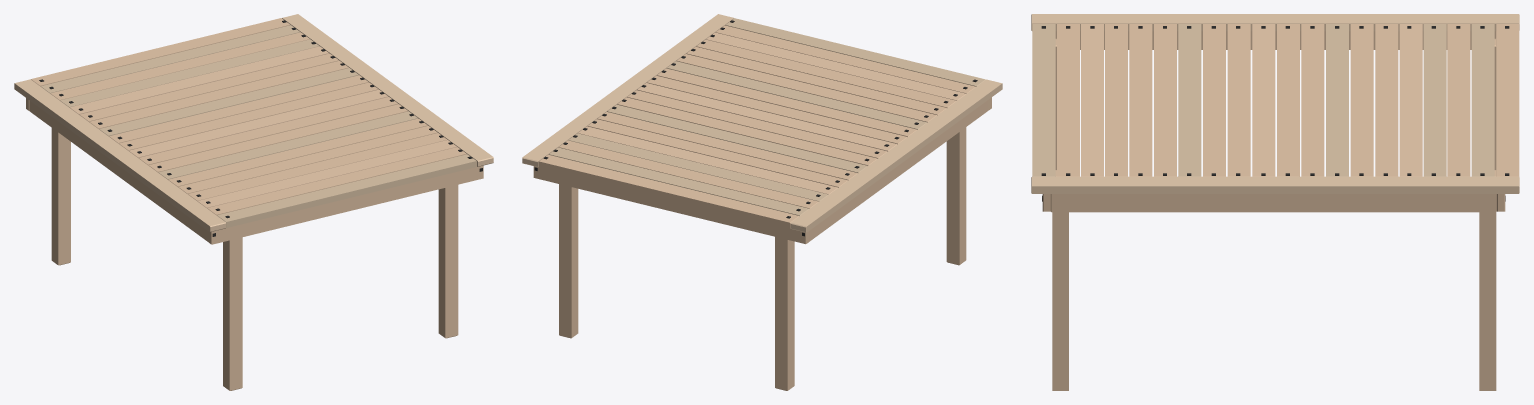
Rendered from WoodenTable_02 (Updated).fbx.
3 renders of one model, left to right at view 1: azimuth 30°, elevation 25°; view 2: azimuth 150°, elevation 25°; view 3: azimuth 270°, elevation 25°, orthographic. The views are drawn at different scales.
Visible parts, largest first — view 1: WoodenTable_02; view 2: WoodenTable_02; view 3: WoodenTable_02.
Boxes of the visible parts, x1,y1,x2,y2 form: WoodenTable_02: [14, 14, 493, 390]; WoodenTable_02: [522, 14, 1002, 390]; WoodenTable_02: [1031, 14, 1519, 390].
Bounding box in the file's own units: 15.08 × 9.07 × 18.05.
